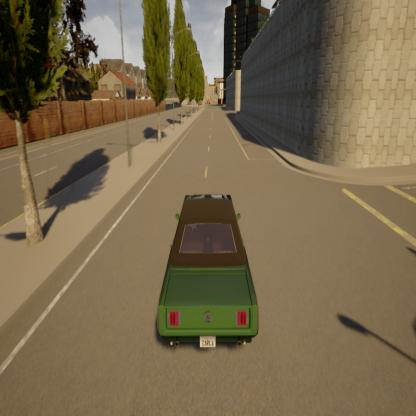Cars: (150, 164, 266, 347)
